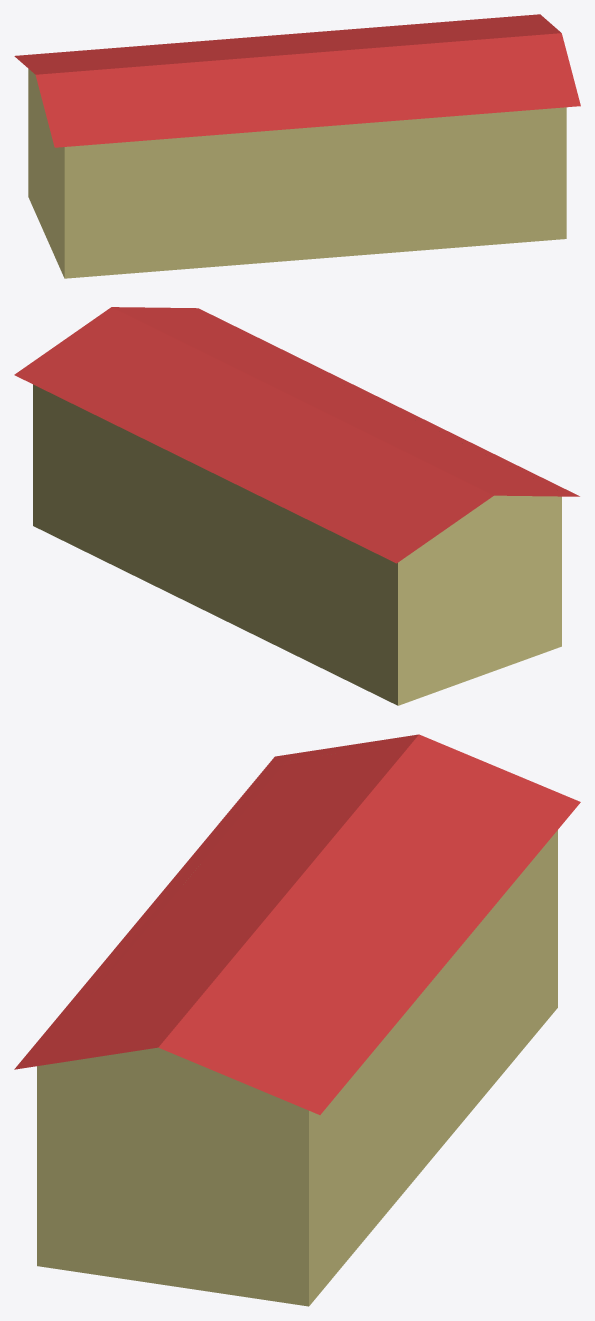
The picture shows the model from 3 angles, top to bottom: view 1: azimuth 30°, elevation 25°; view 2: azimuth 150°, elevation 25°; view 3: azimuth 270°, elevation 25°; orthographic projection. The views are drawn at different scales.
Size of the model in its own units: 23.42 by 15.64 by 7.45.
